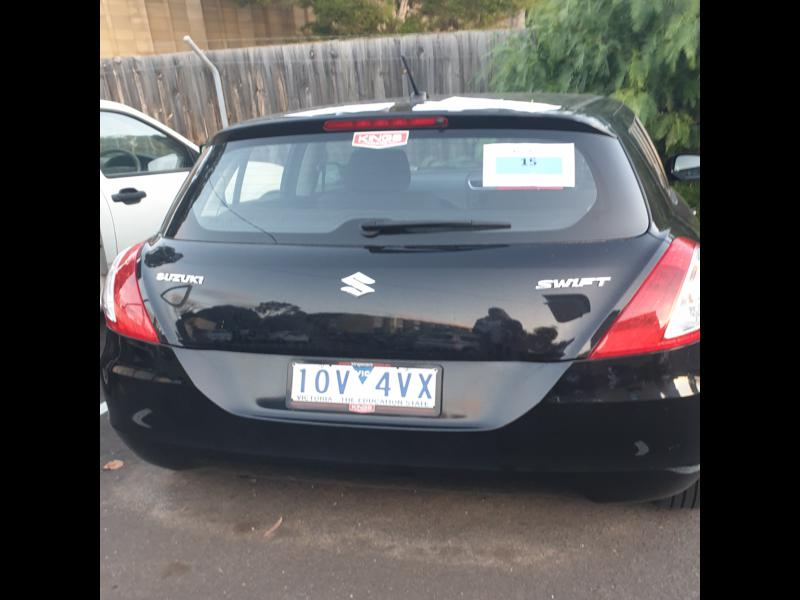BusRun: (496, 153, 563, 174)
PlateNo: (292, 364, 440, 408)
